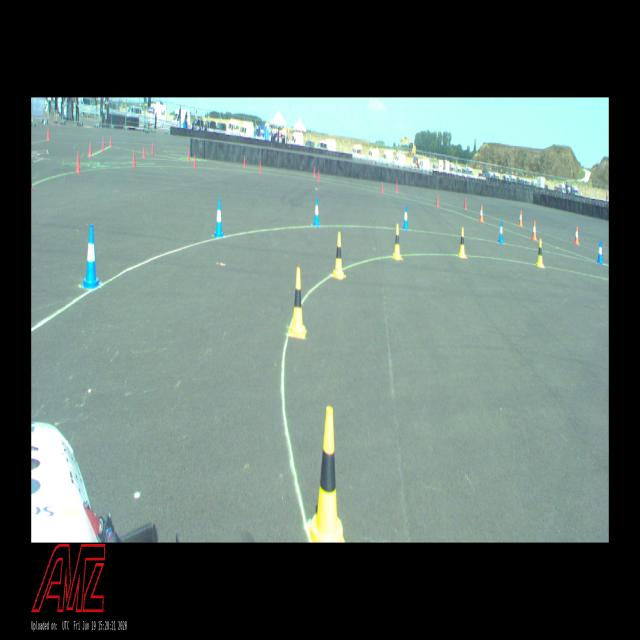blue_cone: (81, 225, 101, 289), (214, 199, 224, 236), (313, 198, 320, 225), (597, 241, 603, 264), (498, 220, 504, 243), (403, 206, 408, 229)
orange_cone: (530, 221, 536, 241), (574, 227, 579, 246), (479, 205, 484, 222), (518, 210, 522, 225)
unknown_cone: (76, 151, 80, 173), (88, 141, 92, 157), (132, 152, 136, 168), (46, 128, 50, 141), (193, 154, 196, 168), (102, 138, 105, 151), (436, 195, 439, 208), (243, 156, 246, 168), (464, 198, 467, 210), (187, 150, 190, 162), (395, 181, 398, 193), (143, 145, 145, 158), (318, 169, 320, 182), (381, 181, 383, 193), (260, 162, 262, 174), (313, 166, 315, 178), (110, 136, 112, 147), (152, 144, 154, 154)
yellow_cone: (308, 406, 346, 542), (290, 268, 306, 339), (333, 232, 345, 280), (393, 224, 403, 260), (457, 228, 466, 258), (536, 239, 544, 267)
